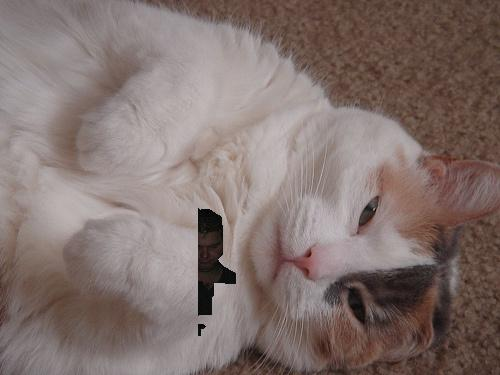tampered: (199, 209, 236, 336)
